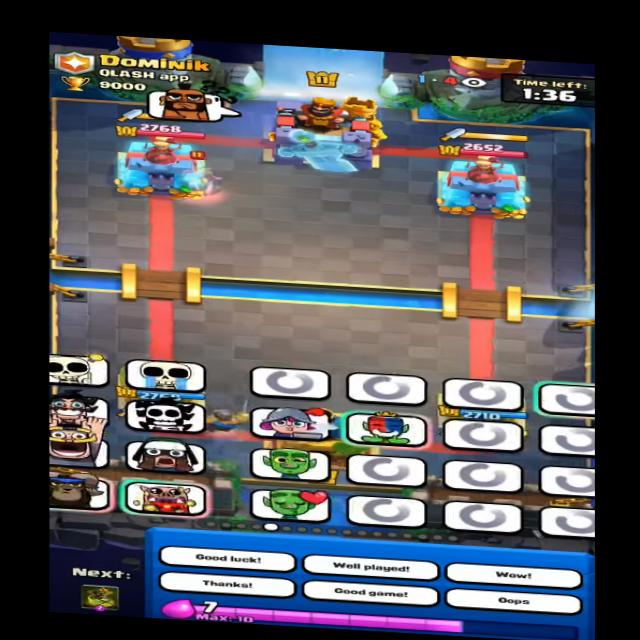royal-ghost: (175, 152, 236, 196)
